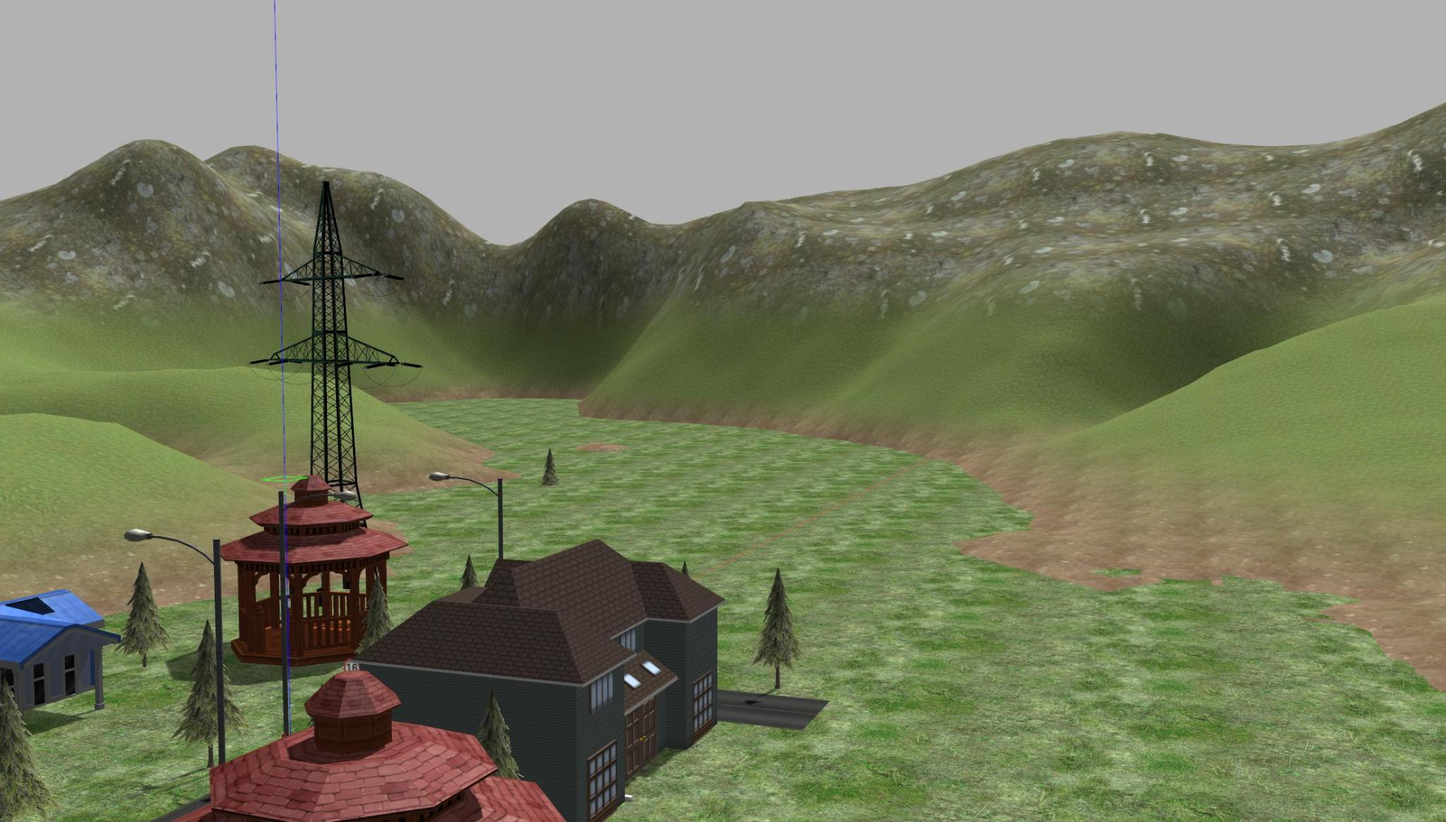tower: (269, 180, 397, 475)
